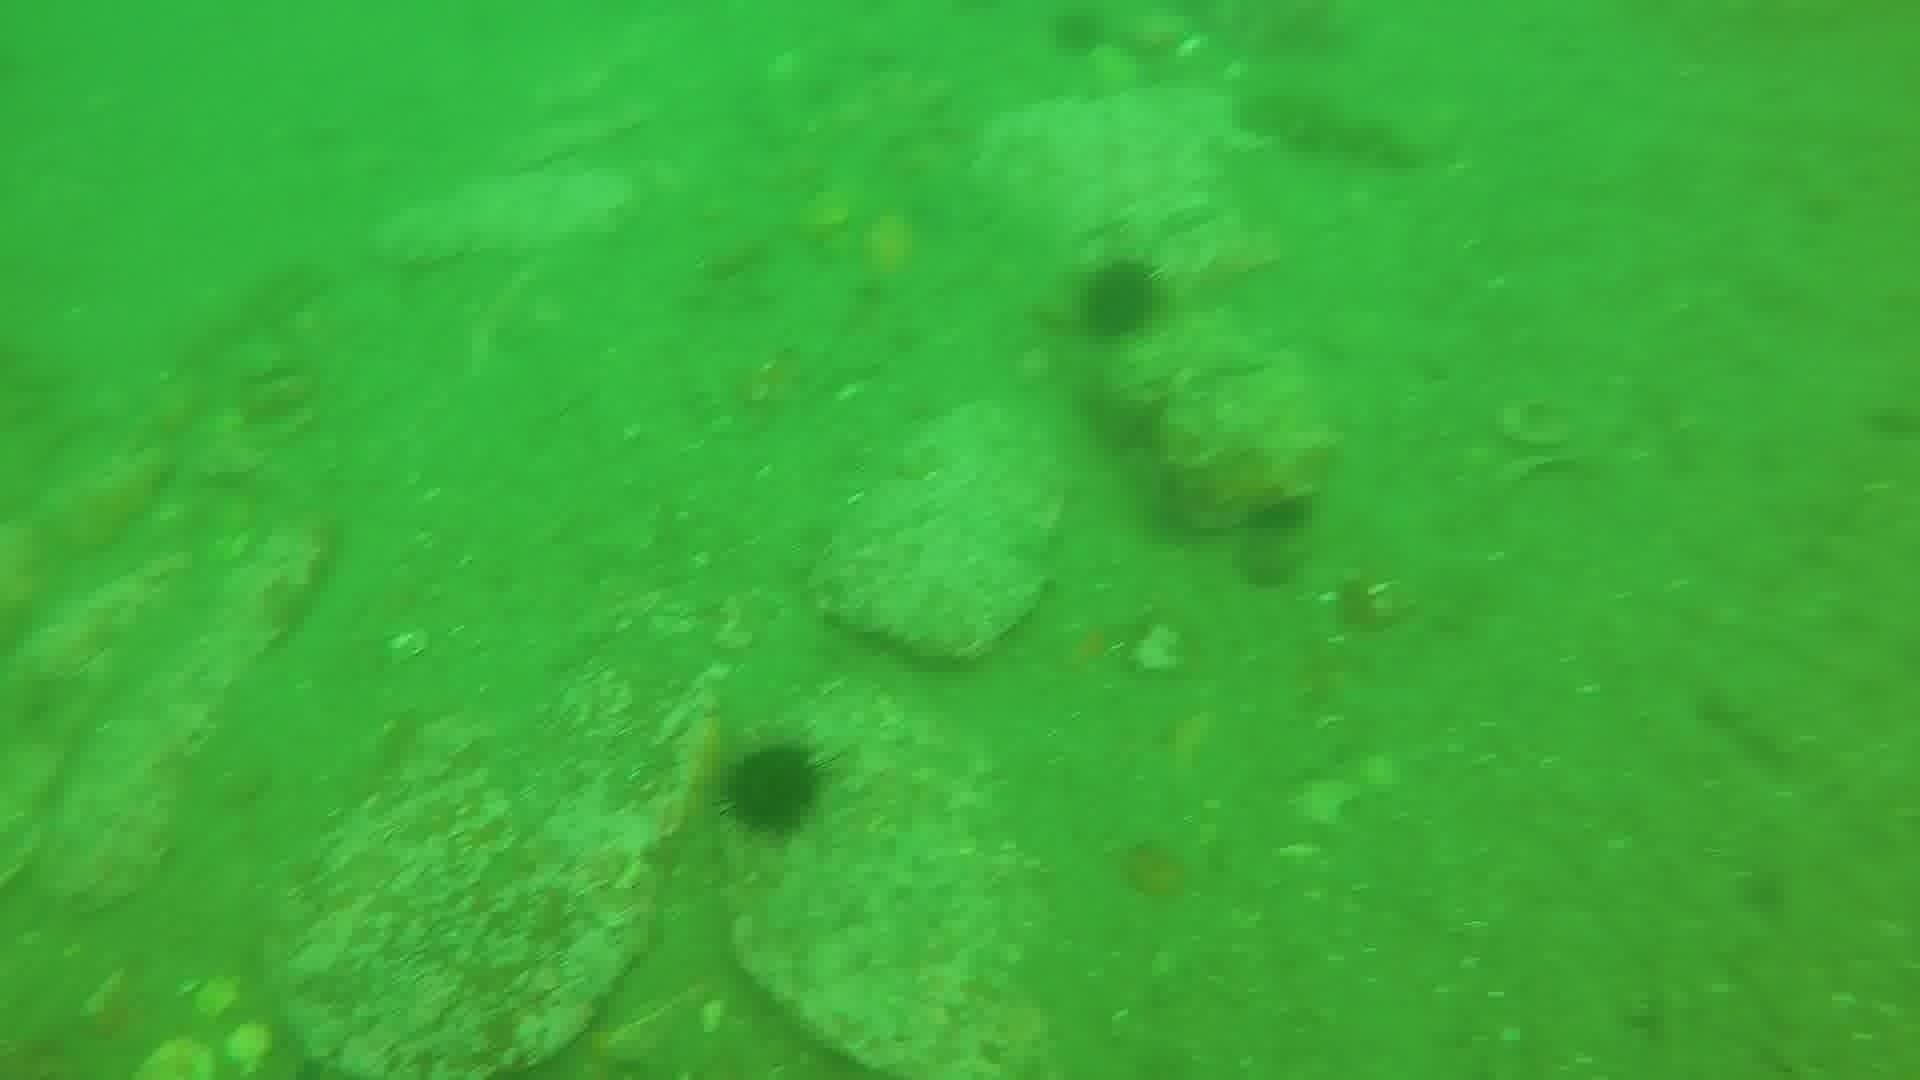echinus: (713, 737, 831, 843), (1072, 255, 1168, 345), (1042, 7, 1112, 63)
holothurian: (1230, 79, 1437, 173)
